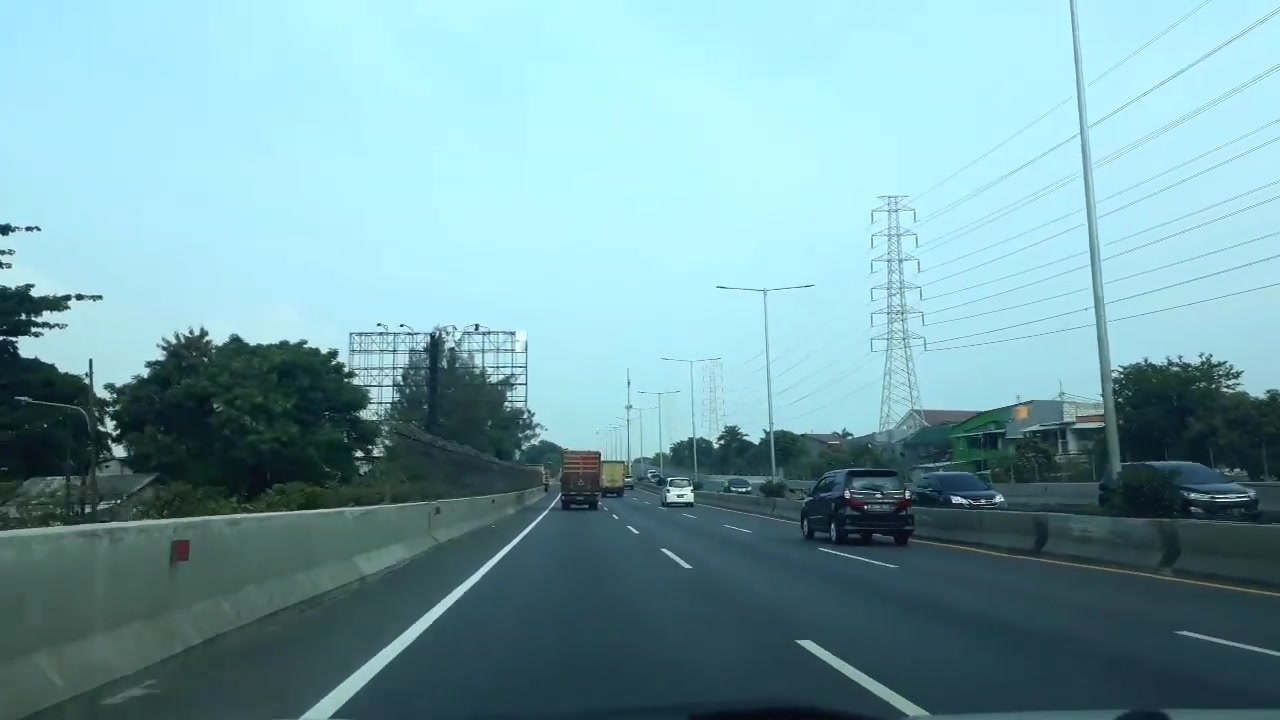plate_positive: (868, 503, 891, 512), (575, 496, 584, 500), (677, 495, 684, 498)
